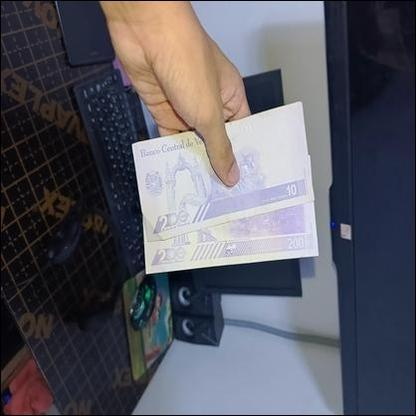ten-back-vef: (131, 100, 315, 243)
two_hundred-back-vef: (143, 200, 320, 276)
